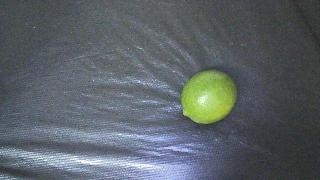LOCAL: (181, 70, 237, 124)
